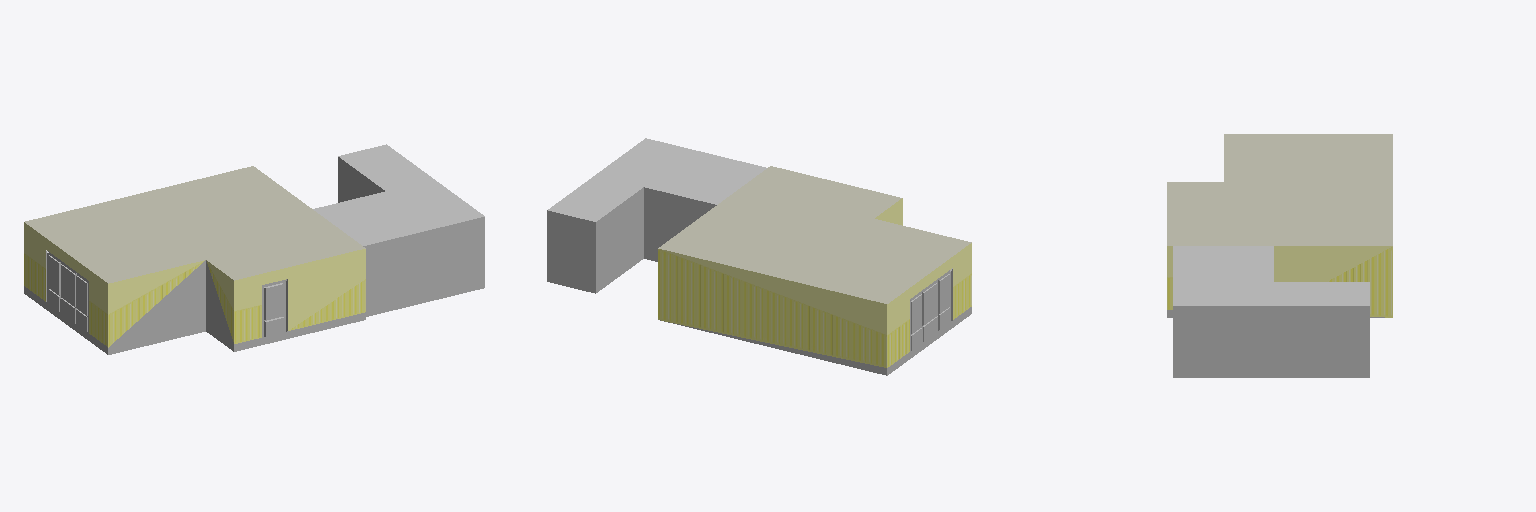
The picture shows the model from 3 angles: view 1: azimuth 30°, elevation 25°; view 2: azimuth 150°, elevation 25°; view 3: azimuth 270°, elevation 25°; orthographic projection.
Visible parts, largest first — view 1: Kitchen; view 2: Kitchen; view 3: Kitchen.
Part boxes in pixels (x1,y1,x2,y2): Kitchen: (24,144,484,354); Kitchen: (547,138,971,375); Kitchen: (1167,134,1392,377).
Size of the model in its own units: 1440 by 280 by 800.
Materials: 20 (4 with a texture image).